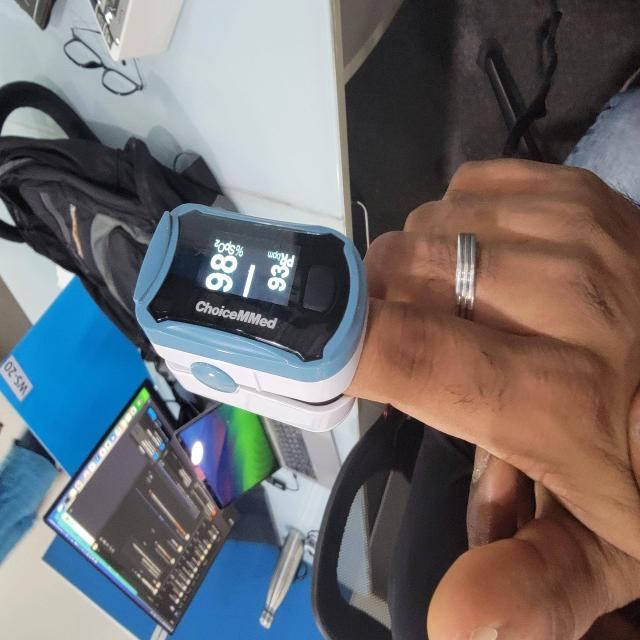spo2: (132, 204, 369, 431)
